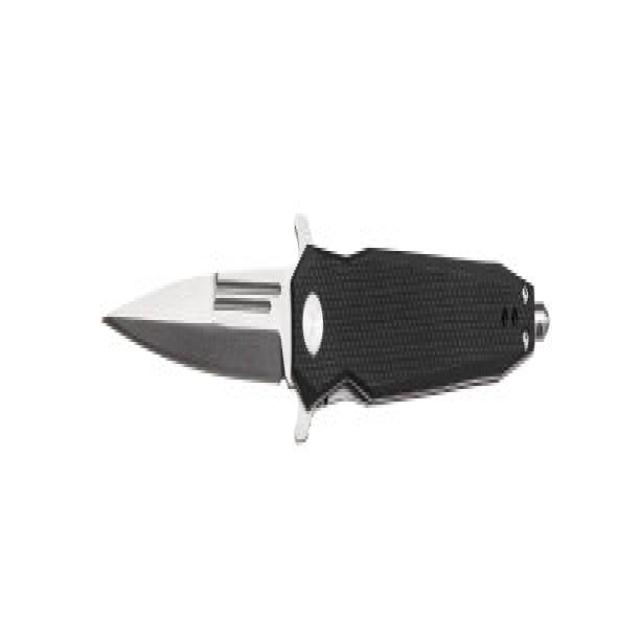knife: (97, 191, 559, 442)
